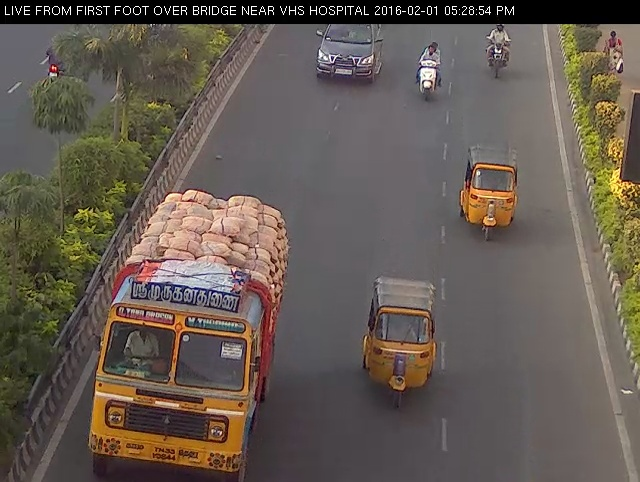Bus: (84, 194, 294, 481)
Car: (354, 267, 447, 416), (457, 127, 526, 245), (308, 21, 389, 88)
Person: (406, 31, 451, 108), (479, 19, 518, 86)
